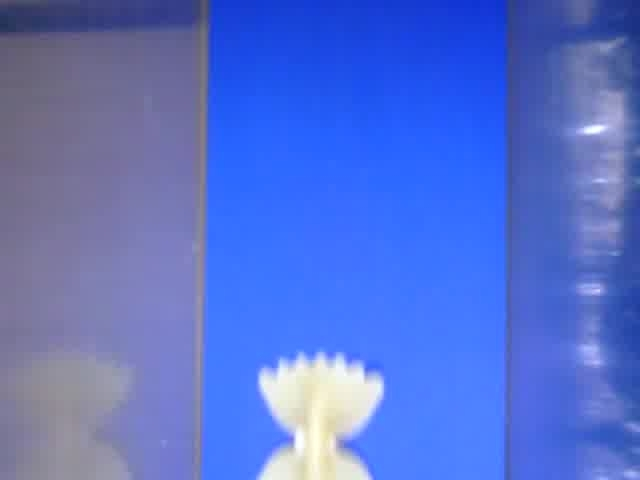farfalle: (252, 351, 386, 480)
